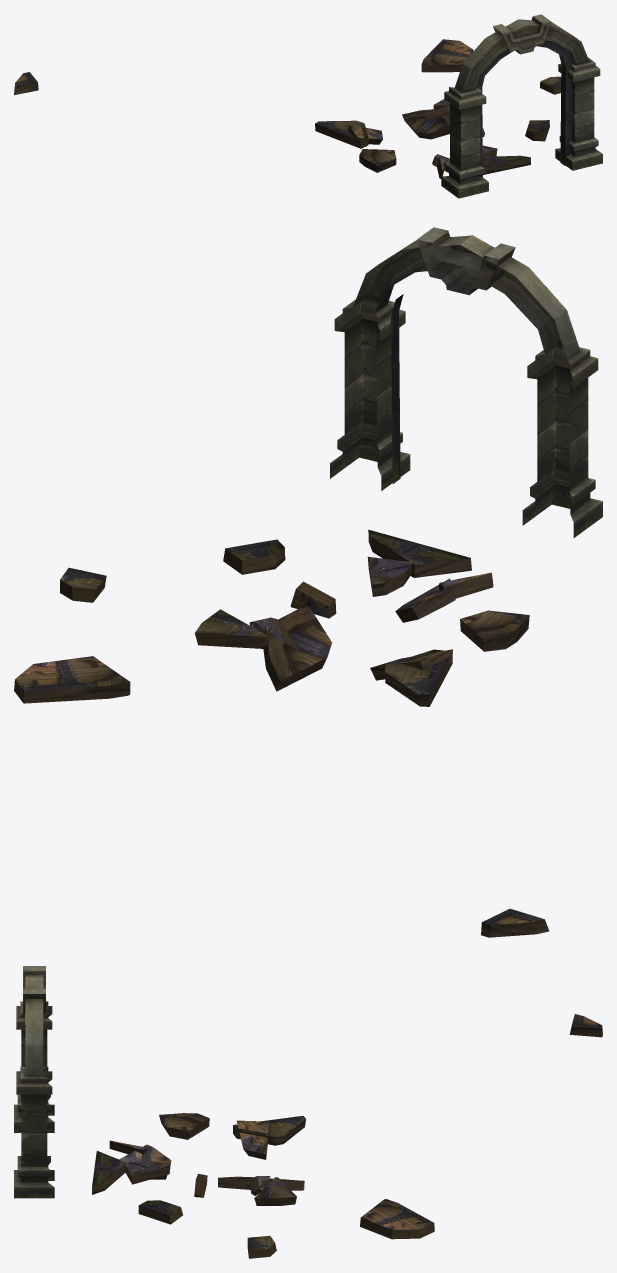
File: opened.FBX
3 views of the same model, one above another, from view 1: azimuth 30°, elevation 25°; view 2: azimuth 150°, elevation 25°; view 3: azimuth 270°, elevation 25° (orthographic). The views are drawn at different scales.
Parts seen in each view (by area): view 1: Box005, door_002, door_001, door_009, door_000, door_010, door_004, door_007, door_005, door_006; view 2: Box005, door_002, door_001, door_010, door_009, door_000, door_003, door_004, door_005, door_008, door_006, door_011 (+1 smaller); view 3: Box005, door_002, door_009, door_000, door_010, door_007, door_003, door_008, door_004, door_001, door_011, door_006 (+1 smaller).
Boxes of the visible parts, x1,y1,x2,y2 form: Box005: (441,14,602,198); door_002: (421,39,473,72); door_001: (402,109,449,139); door_009: (315,120,368,148); door_000: (359,149,396,172); door_010: (483,155,530,174); door_004: (525,120,549,141); door_007: (347,124,382,144); door_005: (14,72,38,95); door_006: (540,76,561,94); Box005: (330,227,602,537); door_002: (14,656,130,703); door_001: (263,607,332,691); door_010: (368,529,471,577); door_009: (384,649,452,706); door_000: (460,610,529,651); door_003: (195,609,267,648); door_004: (223,539,285,574); door_005: (481,908,549,937); door_008: (367,556,412,596); door_006: (60,567,106,602); door_011: (395,578,455,622); Box005: (14,966,54,1198); door_002: (360,1199,434,1239); door_009: (233,1116,305,1145); door_000: (159,1113,209,1139); door_010: (92,1151,125,1194); door_007: (237,1120,269,1159); door_003: (254,1177,296,1205); door_008: (124,1161,170,1184); door_004: (138,1200,182,1224); door_001: (218,1176,304,1190); door_011: (119,1144,171,1179); door_006: (247,1235,276,1258).
Bounding box in the file's own units: 179 × 73.81 × 184.
